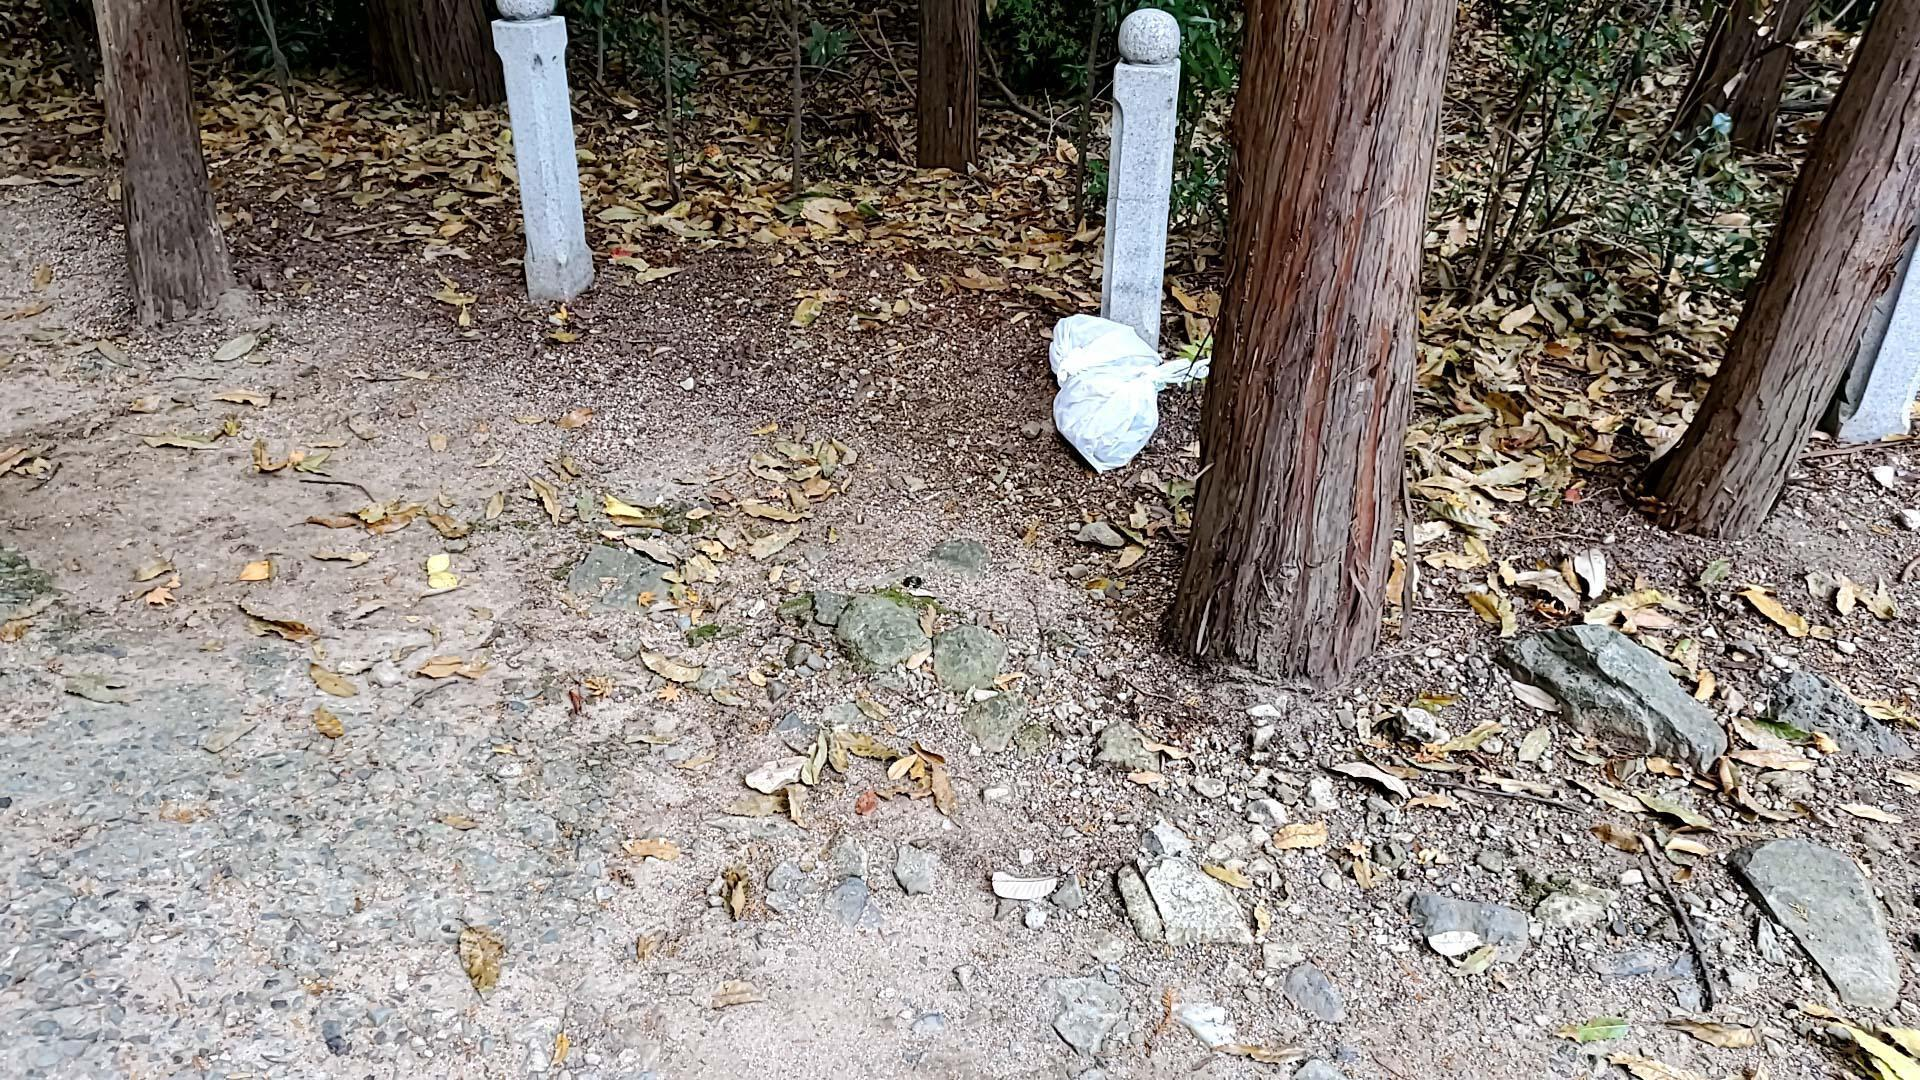white_bag: (1036, 306, 1211, 479)
